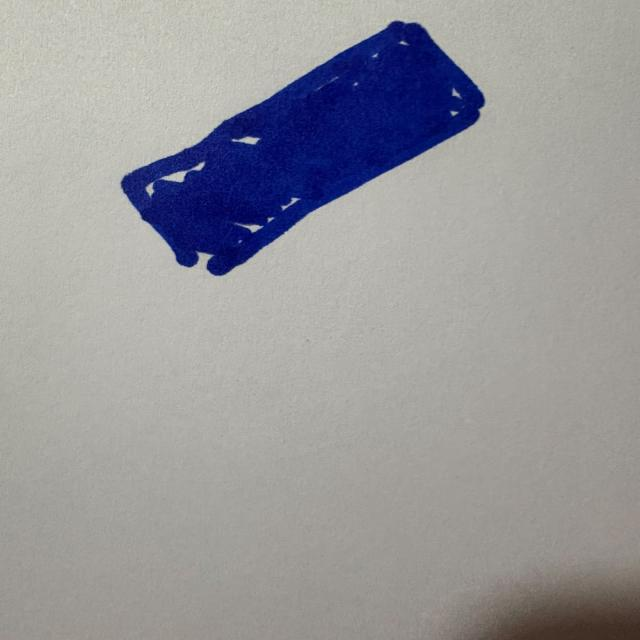Rectangle: (122, 21, 484, 275)
